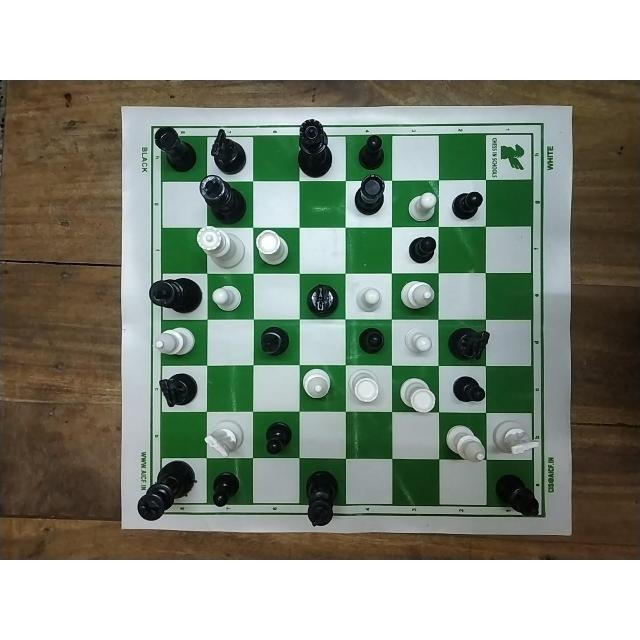black-bishop: (492, 472, 543, 520), (257, 323, 293, 359)
black-king: (135, 458, 196, 524), (197, 173, 248, 222), (143, 277, 205, 313), (304, 467, 340, 528)
black-knight: (207, 127, 251, 174), (155, 369, 197, 410), (447, 325, 491, 362), (303, 280, 341, 315)
black-pawn: (212, 468, 244, 508), (261, 419, 295, 455), (448, 373, 486, 405), (355, 135, 388, 169), (450, 189, 484, 221), (407, 232, 438, 263), (356, 326, 388, 354)
black-queen: (292, 116, 333, 178)
black-rook: (152, 123, 198, 174), (348, 175, 386, 215)
white-bishop: (442, 422, 487, 463), (152, 324, 196, 358), (398, 277, 436, 313), (300, 368, 336, 400)
white-knight: (492, 419, 540, 457), (202, 421, 246, 455)
white-pawn: (400, 326, 436, 357), (210, 283, 246, 313), (404, 190, 438, 221), (353, 284, 385, 313)
white-queen: (191, 224, 245, 268)
white-rook: (399, 377, 437, 413), (254, 229, 290, 264), (347, 368, 379, 404)
